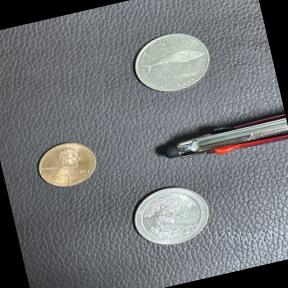Croatia-2Kune-B: (120, 20, 225, 106)
US-1cent-B: (26, 130, 110, 201)
US-25cent-B: (119, 173, 221, 258)
